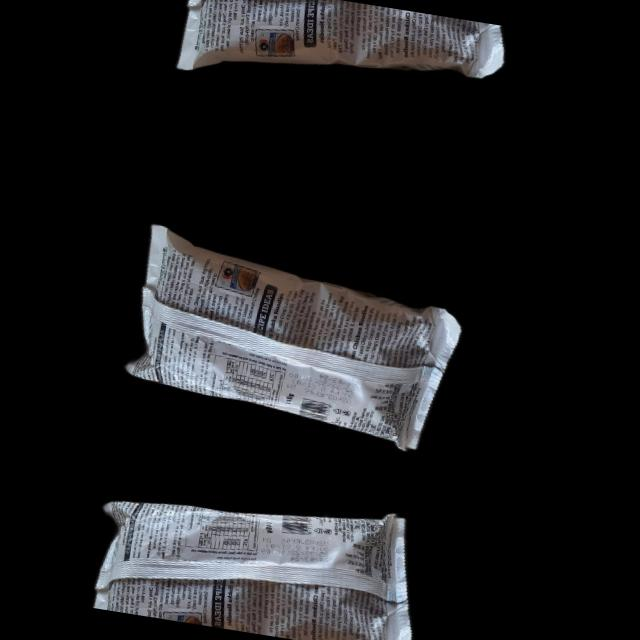Chings Secret Veg Hakka Noodles 140 g Pouch: (120, 221, 472, 452), (87, 474, 431, 640), (172, 0, 510, 121)
